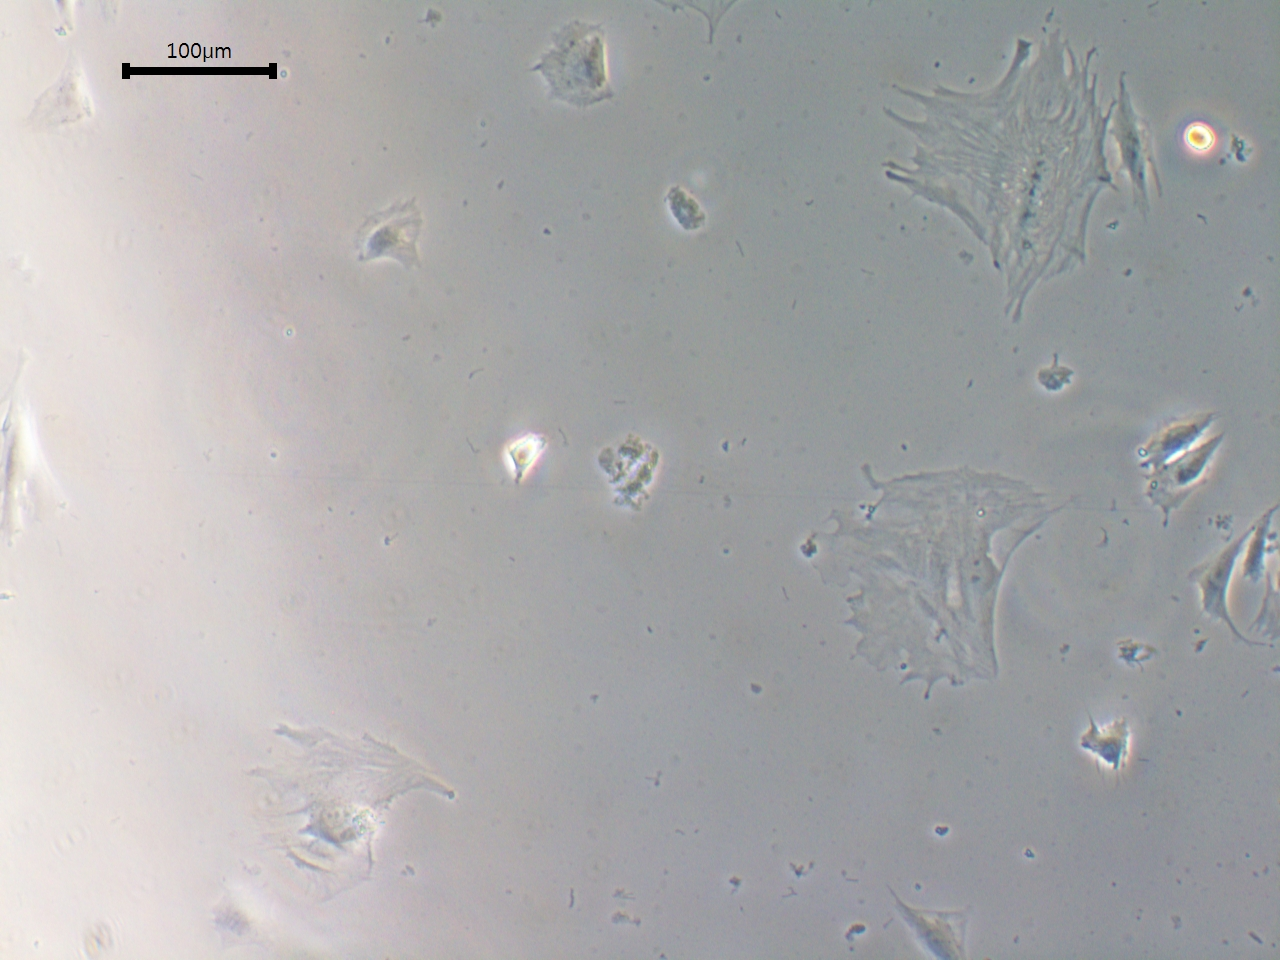dividing: (873, 14, 1111, 330)
medium-spread: (756, 456, 1069, 717), (230, 711, 471, 933), (528, 18, 624, 120)
small-polygonal: (499, 432, 547, 496)
small-round: (1186, 119, 1218, 152)
small-spread: (354, 195, 427, 292), (657, 179, 711, 242), (1082, 718, 1132, 776)
